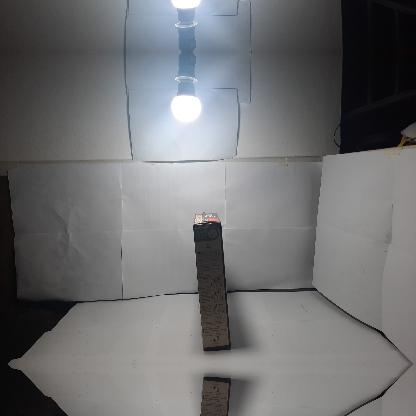Koko-Krunch: (193, 212, 231, 350), (193, 377, 232, 415)
